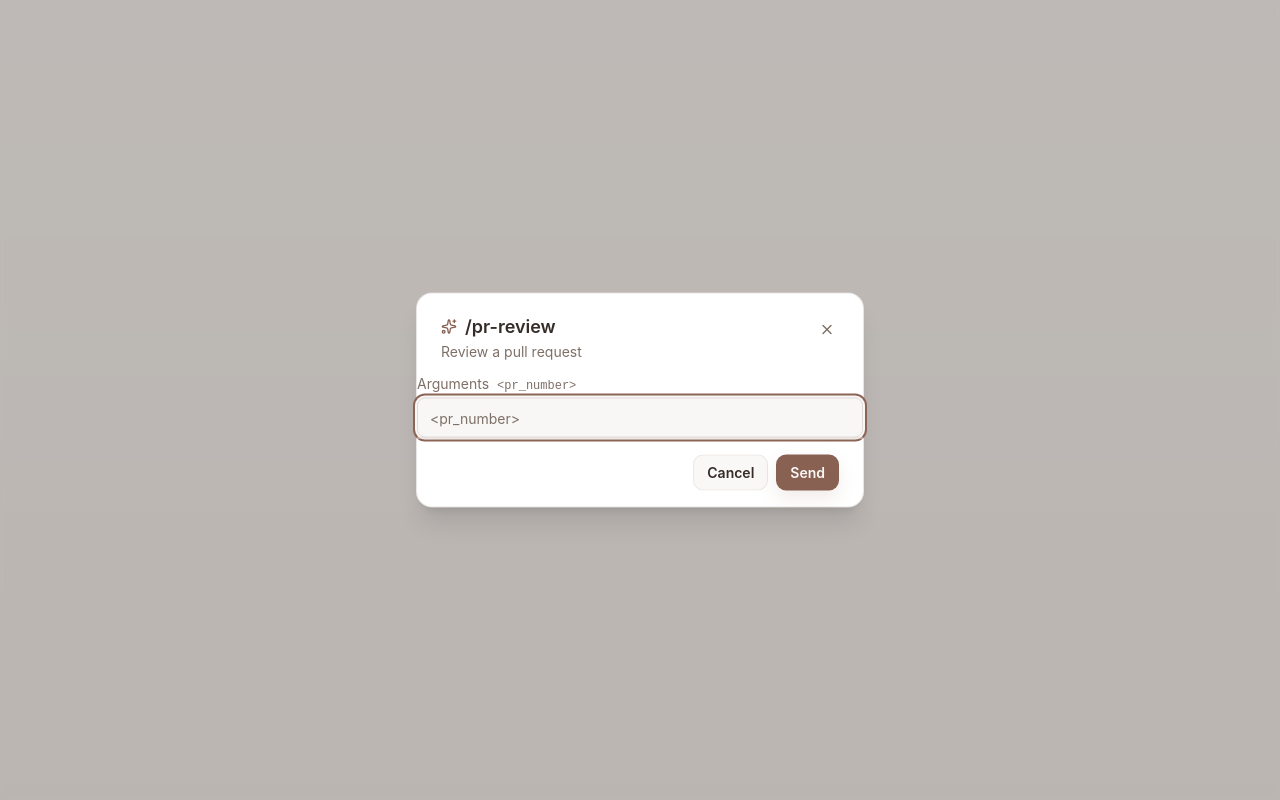
Scenario: SkillArgsDialog › keeps the arguments and dialog open when the skill was not sent
This screenshot has width=1280, height=800.
Type "123" into the field. click: (640, 418)
box: [417,398,863,438]
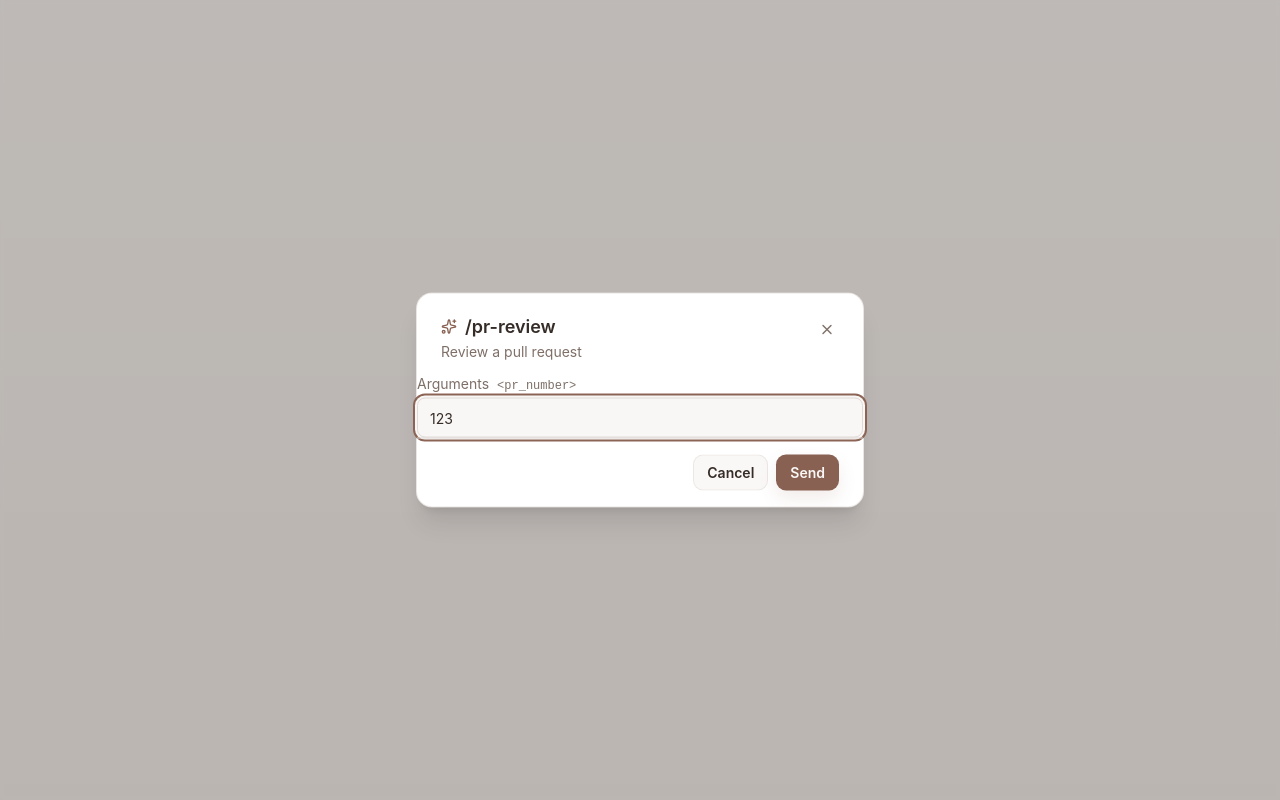
Click the button "Send". click: (808, 472)
box: [776,454,839,490]
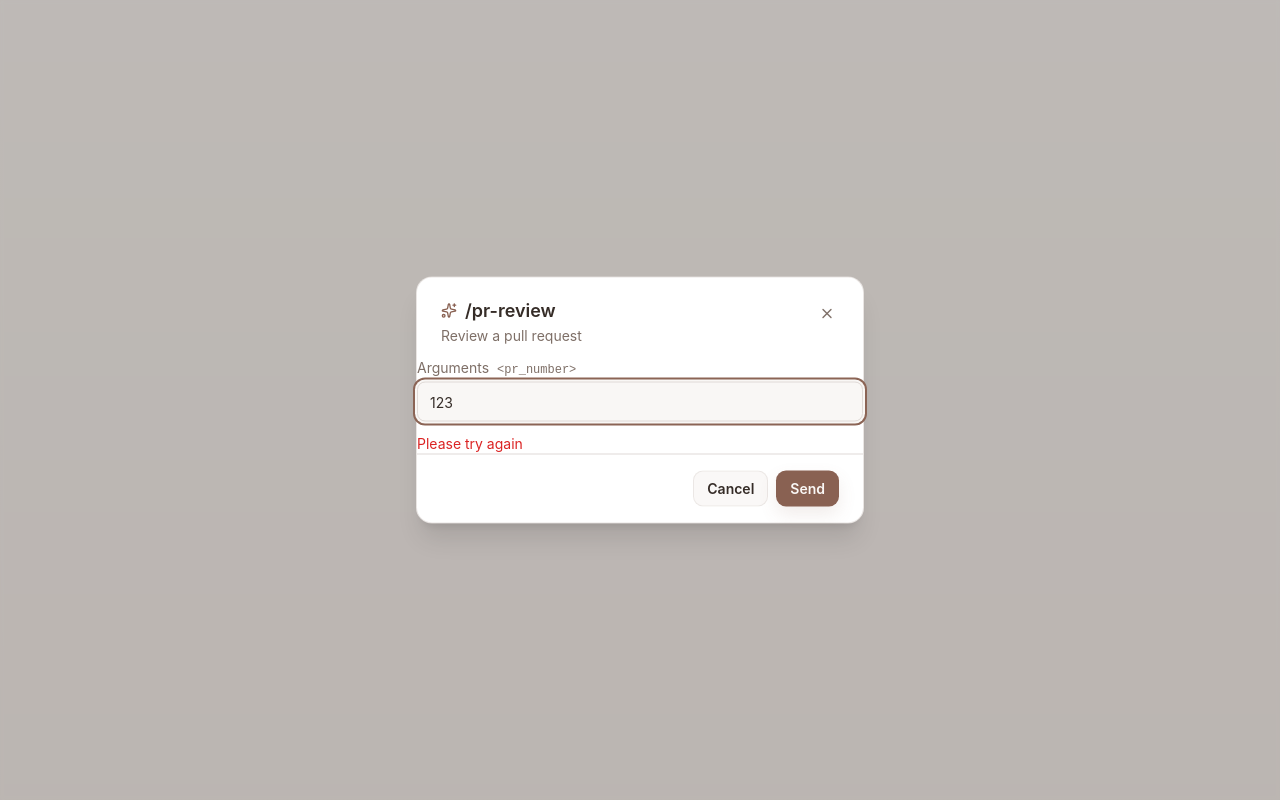
Expected: the dialog is shown, [416,276,864,524]
Expected: the text "Please try again" is shown, [417,434,523,452]
